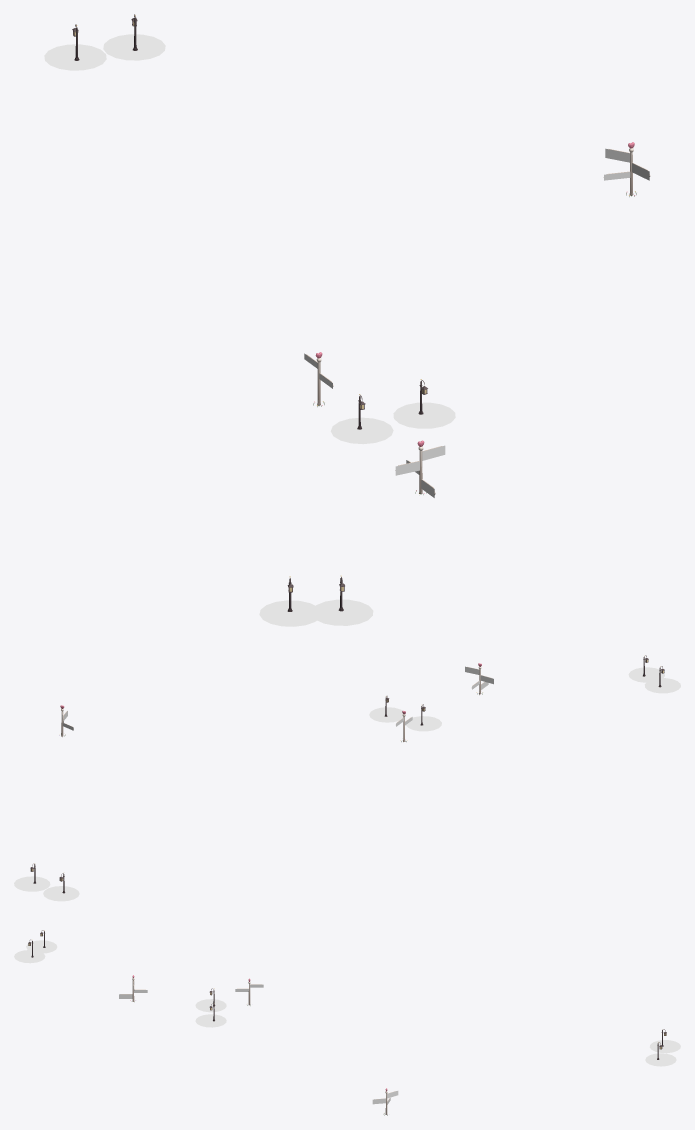
File: zon_paths.glb
3 views of the same model, one above another, from view 1: azimuth 30°, elevation 25°; view 2: azimuth 150°, elevation 25°; view 3: azimuth 270°, elevation 25° (orthographic). The views are drawn at different scales.
Visible parts, largest first — view 1: SM_paths_paths_pool_xm1_z0, SM_paths_paths_pool_x0_zm1, SM_paths_veg_vc_xm1_z0; view 2: SM_paths_paths_pool_xm1_z0, SM_paths_paths_pool_x0_zm1, SM_paths_veg_vc_xm1_z0; view 3: SM_paths_paths_pool_xm1_z0, SM_paths_paths_pool_x0_zm1, SM_paths_veg_vc_xm1_z0.
Boxes of the visible parts, left/top/right/bottom form: SM_paths_paths_pool_xm1_z0: left=259, top=402, right=455, bottom=626; SM_paths_paths_pool_x0_zm1: left=44, top=34, right=165, bottom=70; SM_paths_veg_vc_xm1_z0: left=287, top=352, right=441, bottom=611; SM_paths_paths_pool_xm1_z0: left=369, top=667, right=680, bottom=731; SM_paths_paths_pool_x0_zm1: left=14, top=876, right=79, bottom=901; SM_paths_veg_vc_xm1_z0: left=384, top=655, right=664, bottom=741; SM_paths_paths_pool_xm1_z0: left=14, top=940, right=226, bottom=1027; SM_paths_paths_pool_x0_zm1: left=645, top=1040, right=680, bottom=1066; SM_paths_veg_vc_xm1_z0: left=28, top=930, right=261, bottom=1021.
Size of the model in its own units: 42.15 by 2.93 by 67.77.
